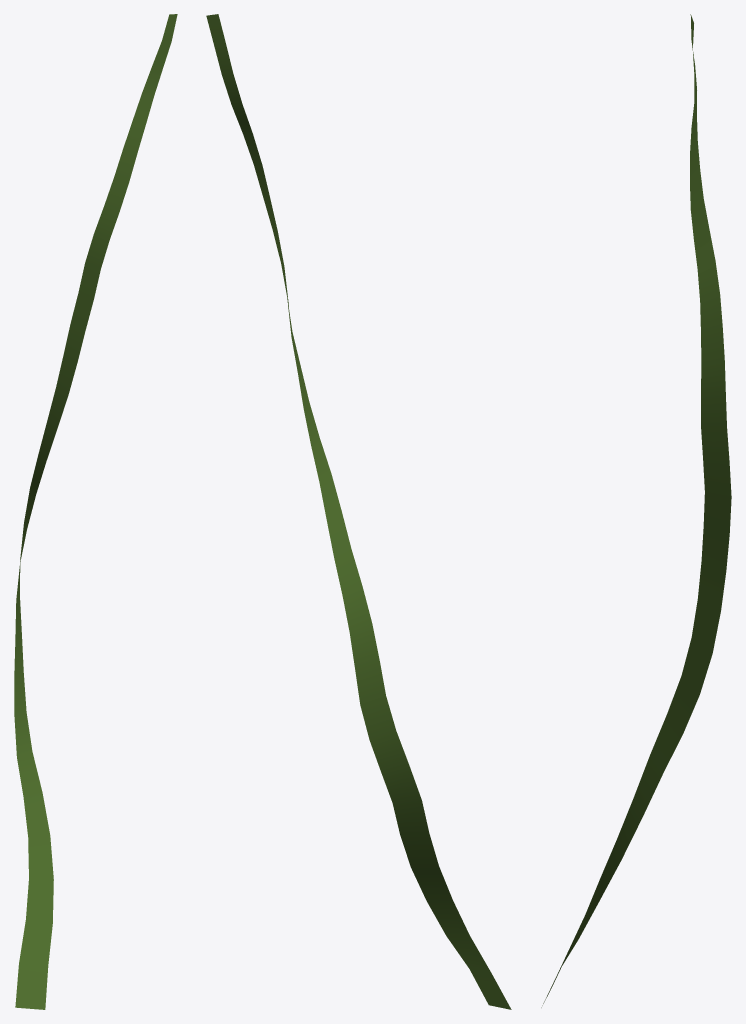
File: plant_swamp_kelp_long_solo_B.fbx
3 renders of one model, left to right at view 1: azimuth 30°, elevation 25°; view 2: azimuth 150°, elevation 25°; view 3: azimuth 270°, elevation 25°, orthographic. The views are drawn at different scales.
Parts seen in each view (by area): view 1: plant_swamp_kelp_long_solo_B; view 2: plant_swamp_kelp_long_solo_B; view 3: plant_swamp_kelp_long_solo_B.
Part boxes in pixels (bbox=[...]): plant_swamp_kelp_long_solo_B: bbox=[14, 14, 177, 1009]; plant_swamp_kelp_long_solo_B: bbox=[206, 14, 511, 1009]; plant_swamp_kelp_long_solo_B: bbox=[541, 14, 731, 1007].
Size of the model in its own units: 89.77 by 352 by 55.11.
